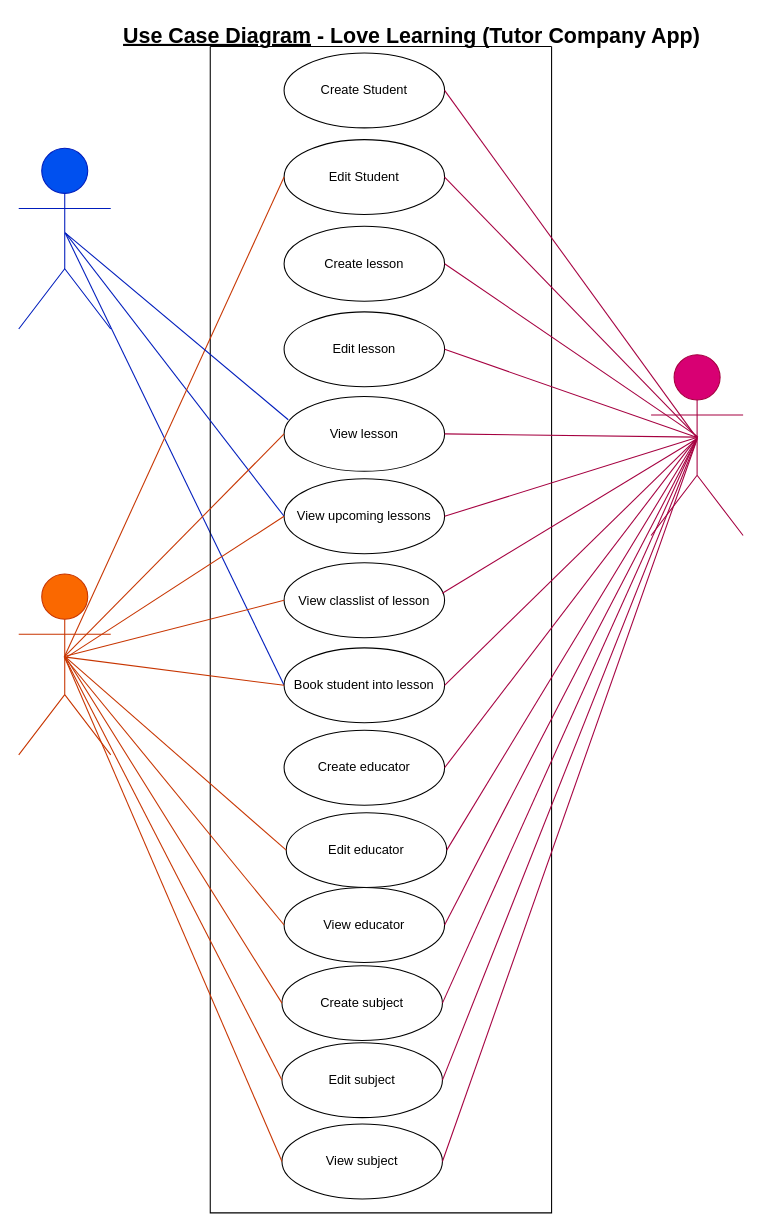
This 762x1232 diagram has some shape labels left out. Each missing label, with the centre of its shape:
Educator: the point at 64,664
Student: the point at 64,238
Tutor Company: the point at 696,445
